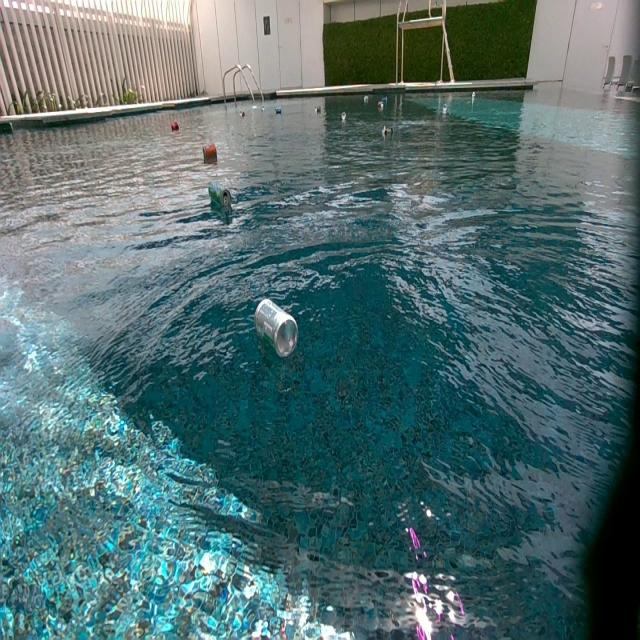Cans: (256, 298, 300, 358), (208, 184, 230, 210), (203, 143, 217, 158), (382, 126, 393, 140), (172, 118, 180, 131), (275, 107, 283, 115), (315, 106, 323, 114), (240, 110, 247, 119), (342, 110, 348, 120), (378, 102, 385, 110), (443, 104, 449, 113), (362, 97, 368, 105), (470, 92, 476, 100), (260, 106, 266, 113), (381, 97, 388, 103)
